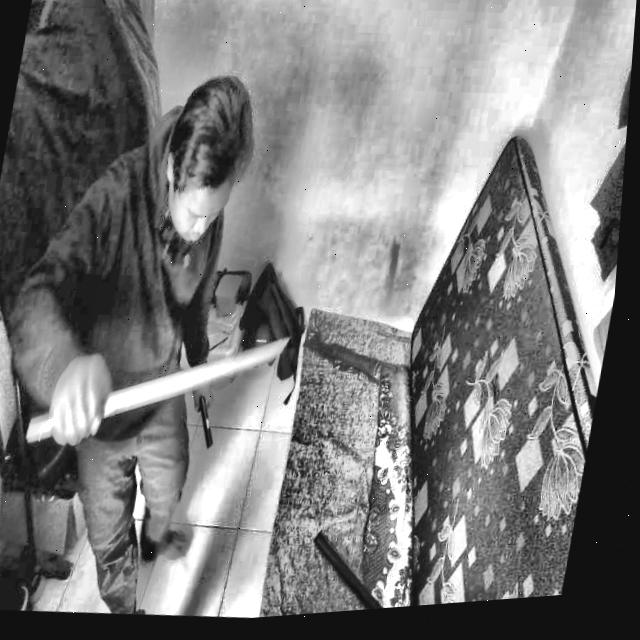pisau: (16, 302, 300, 480)
